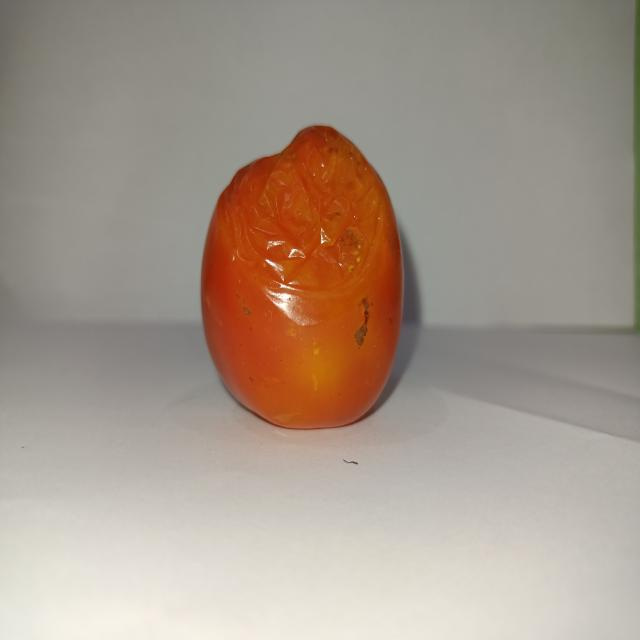Red: (199, 122, 405, 430)
